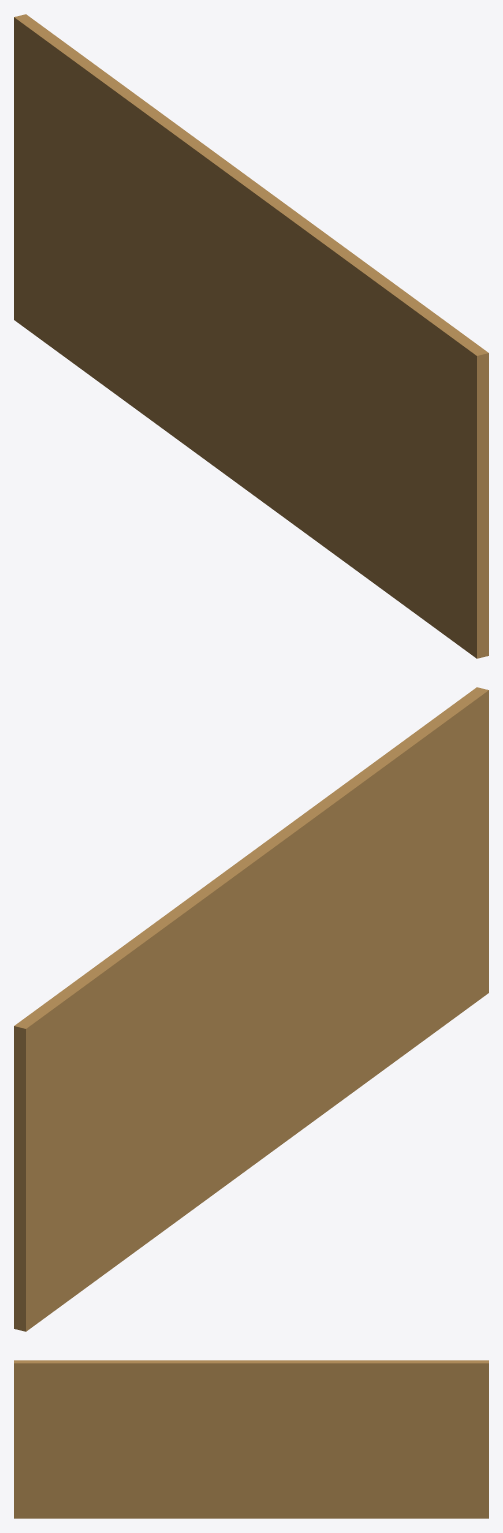
The picture shows the model from 3 angles, top to bottom: view 1: azimuth 30°, elevation 25°; view 2: azimuth 150°, elevation 25°; view 3: azimuth 270°, elevation 25°; orthographic projection. The views are drawn at different scales.
Visible parts, largest first — view 1: shape; view 2: shape; view 3: shape.
Part boxes in pixels (box(x1,y1,x2,y2)): shape: box(14, 14, 488, 658); shape: box(14, 687, 488, 1331); shape: box(14, 1360, 488, 1518).
Bounding box in the file's own units: 0.1 × 2.4 × 6.65.
